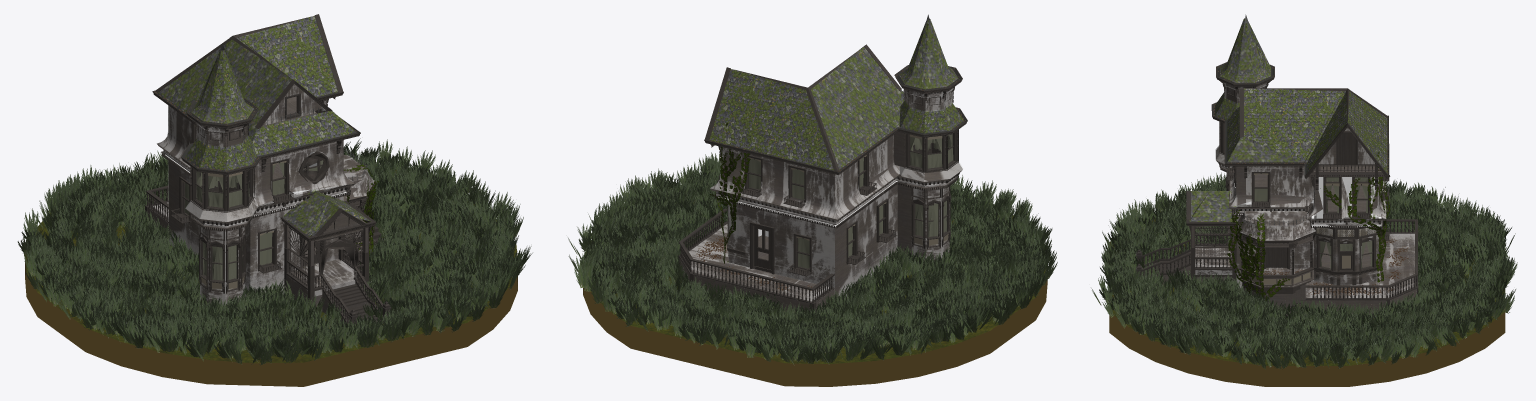
Rendered from gothic_house.glb.
3 views of the same model, side by side, from view 1: azimuth 30°, elevation 25°; view 2: azimuth 150°, elevation 25°; view 3: azimuth 270°, elevation 25° (orthographic). The views are drawn at different scales.
Visible parts, largest first — view 1: 0_Grass, 0_Generic_Chassis, 0_Generic_Roof, 0_Generic_Wood, 0_Dirt, 0_Decals, 0_Rideau, Plane, 0_Generic_Decoration; view 2: 0_Grass, 0_Generic_Wood, 0_Generic_Roof, 0_Generic_Chassis, 0_Dirt, 0_Decals, 0_Rideau, 0_Ivy, Plane, 0_Fallen_Leaves_Grond; view 3: 0_Grass, 0_Generic_Wood, 0_Generic_Chassis, 0_Generic_Roof, 0_Dirt, 0_Decals, 0_Ivy, 0_Generic_Decoration, 0_Rideau, 0_Decoration_blanches, 0_Fallen_Leaves_Grond, 0_Ivy_2 (+2 smaller).
Part boxes in pixels (x1,y1,x2,y2): 0_Grass: (17,138,532,365); 0_Generic_Chassis: (145,14,391,324); 0_Generic_Roof: (158,16,371,236); 0_Generic_Wood: (148,84,383,327); 0_Dirt: (25,170,517,386); 0_Decals: (153,85,374,305); 0_Rideau: (184,160,323,280); Plane: (153,91,359,171); 0_Generic_Decoration: (194,97,375,249); 0_Grass: (568,152,1057,364); 0_Generic_Wood: (679,88,962,312); 0_Generic_Roof: (709,18,963,170); 0_Generic_Chassis: (678,44,967,311); 0_Dirt: (583,193,1047,386); 0_Decals: (689,88,963,301); 0_Rideau: (749,134,953,268); 0_Ivy: (710,123,750,263); Plane: (707,66,966,172); 0_Fallen_Leaves_Grond: (696,236,811,291); 0_Grass: (1091,172,1517,369); 0_Generic_Wood: (1142,83,1416,317); 0_Generic_Chassis: (1136,62,1418,310); 0_Generic_Roof: (1189,18,1387,221); 0_Dirt: (1109,203,1505,386); 0_Decals: (1195,83,1414,297); 0_Ivy: (1227,152,1390,300); 0_Generic_Decoration: (1189,80,1389,285); 0_Rideau: (1251,177,1372,268); 0_Decoration_blanches: (1245,173,1376,284); 0_Fallen_Leaves_Grond: (1262,238,1408,296); 0_Ivy_2: (1240,179,1385,290).
Size of the model in its own units: 7.21 by 4.35 by 6.87.
15 materials, 9 textured.
